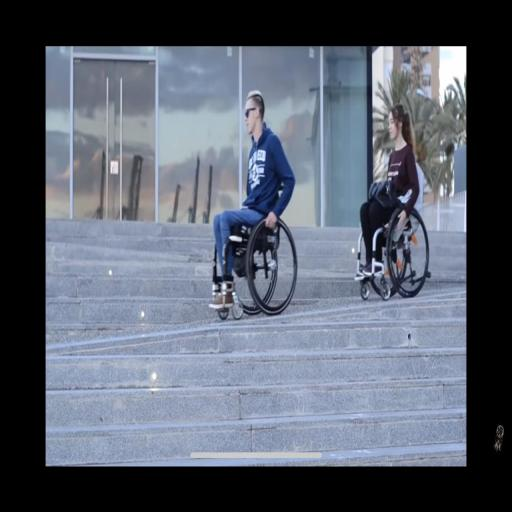cadeira_de_rodas: (212, 86, 299, 319), (353, 98, 430, 300)
